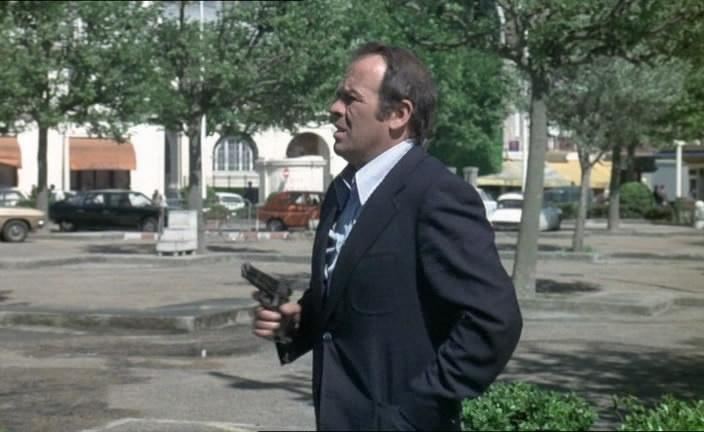gun: (233, 262, 297, 339)
